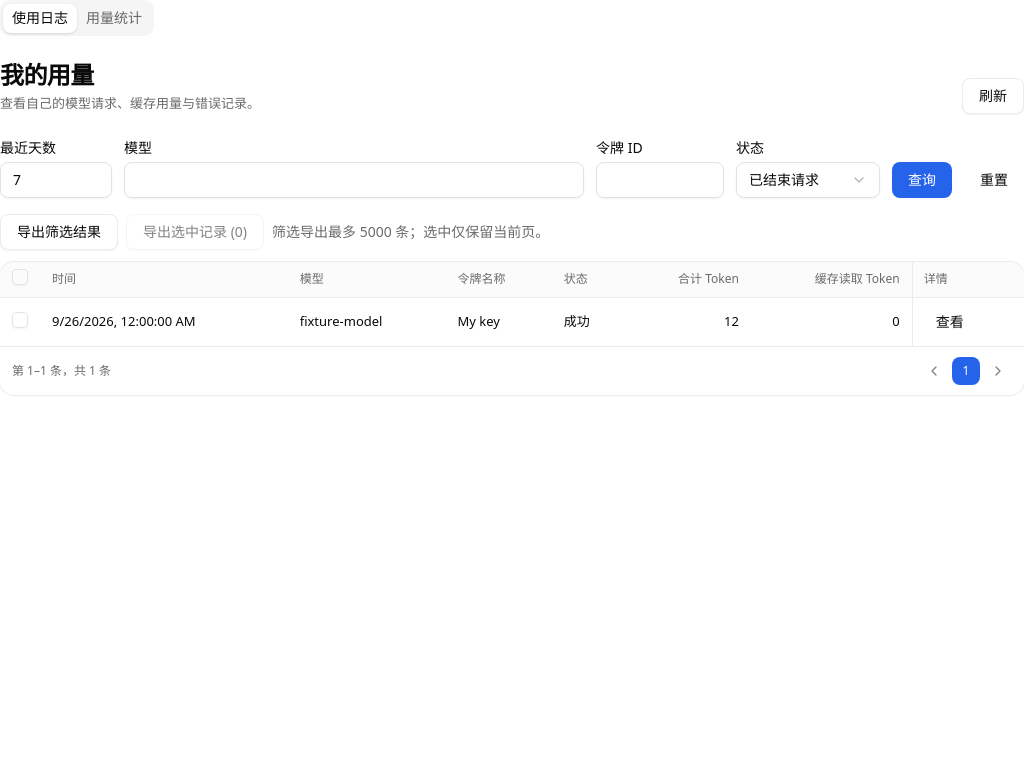
Test: loads personal records, applies filters and renders safe details
expect the text "fixture-model" is shown: met, box [288,298,445,346]
In the field labelled "模型": (354, 180) [124,162,584,198], type "other-model"
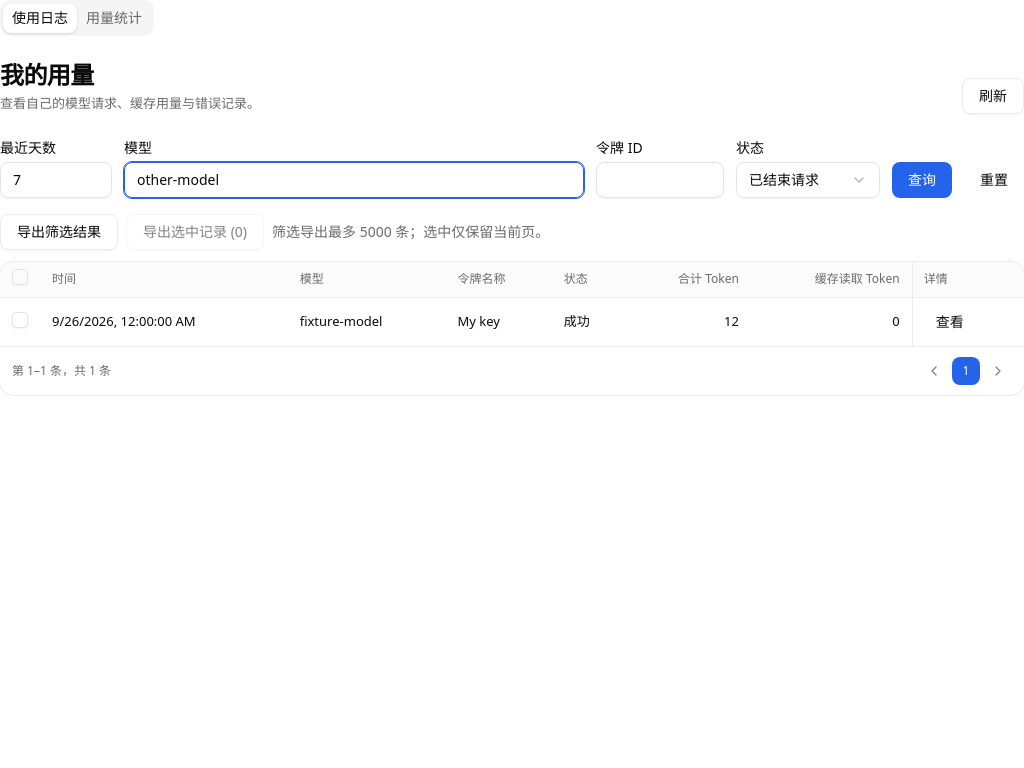
Click the button "查询": (922, 180) [892,162,952,198]
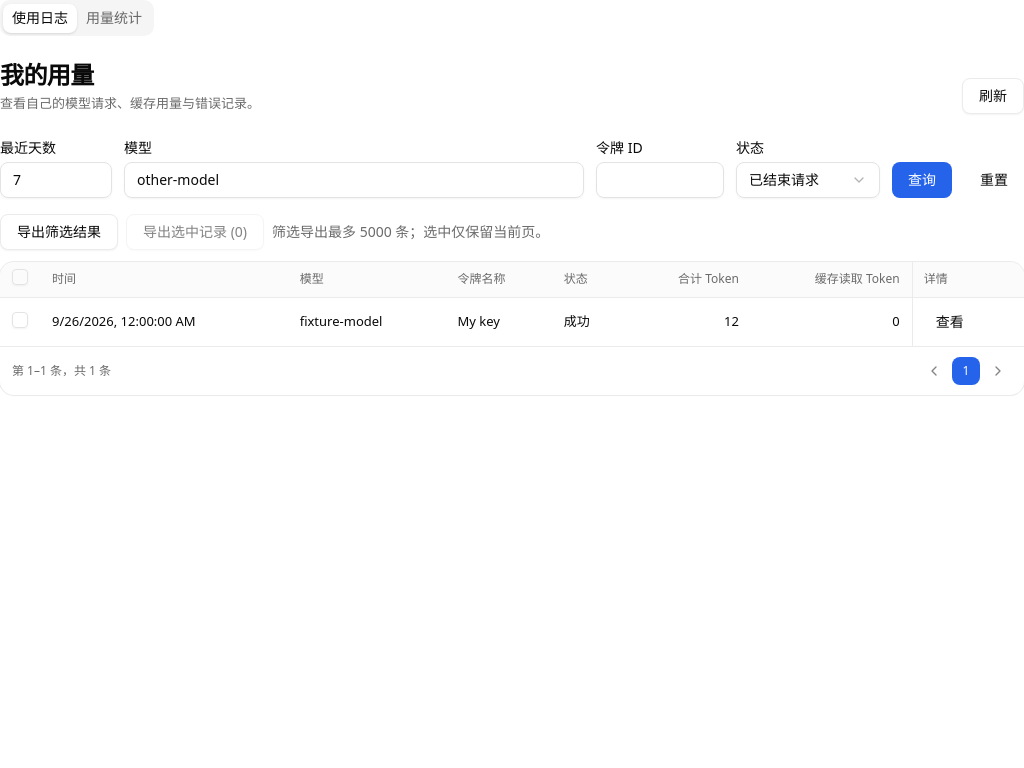
Click the button "查看": (950, 322) [924,306,976,338]
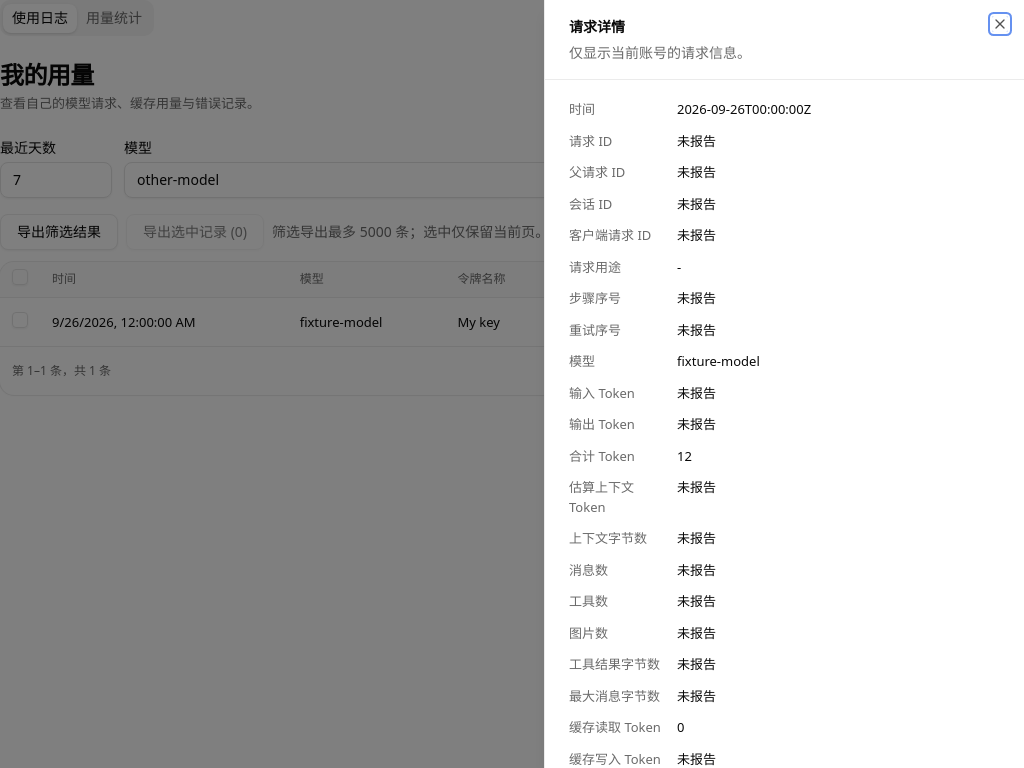
expect the text "仅显示当前账号的请求信息。" is shown: met, box [569,43,751,62]
